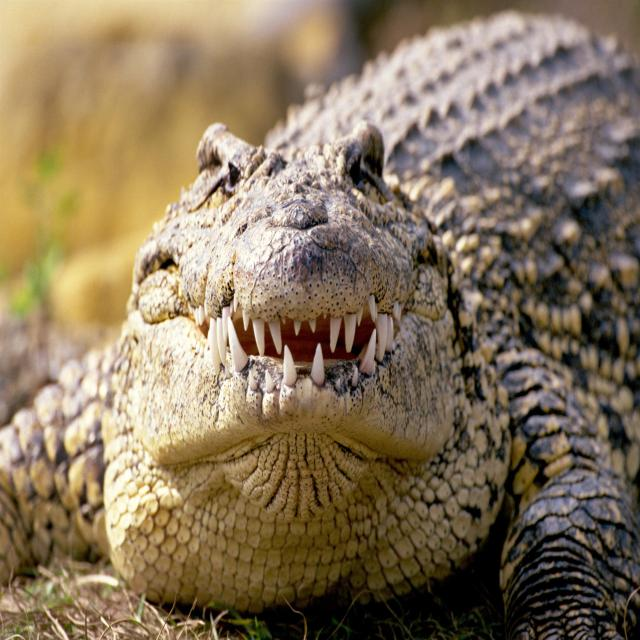crocodile: (6, 7, 640, 639)
